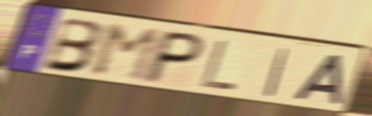A: (289, 52, 346, 107)
B: (40, 15, 106, 75)
I: (262, 45, 291, 99)
L: (198, 38, 239, 93)
M: (89, 23, 165, 84)
P: (139, 29, 209, 86)
